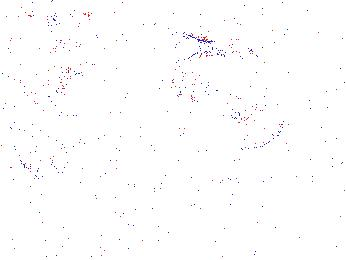moon jellyfish: (195, 86, 285, 152), (1, 33, 69, 110), (11, 80, 66, 171), (212, 39, 266, 124), (169, 52, 246, 104)
